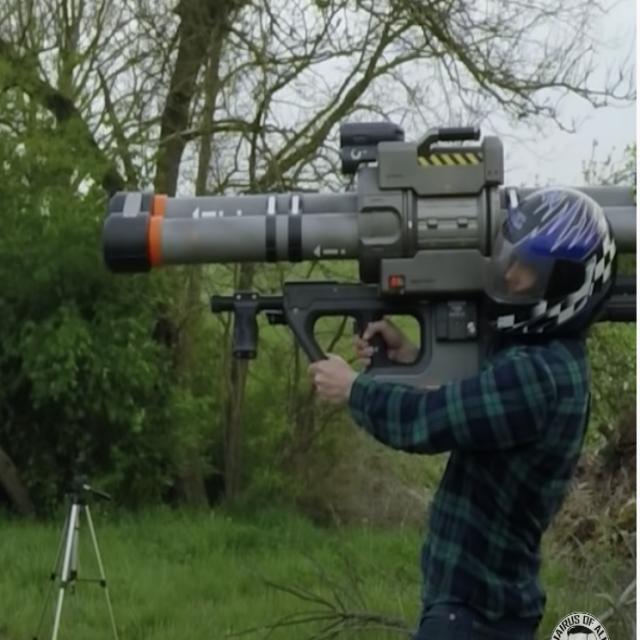bazooka: (92, 115, 640, 366)
